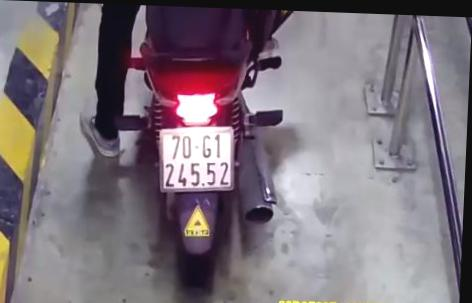License_Plate: (147, 122, 243, 198)
